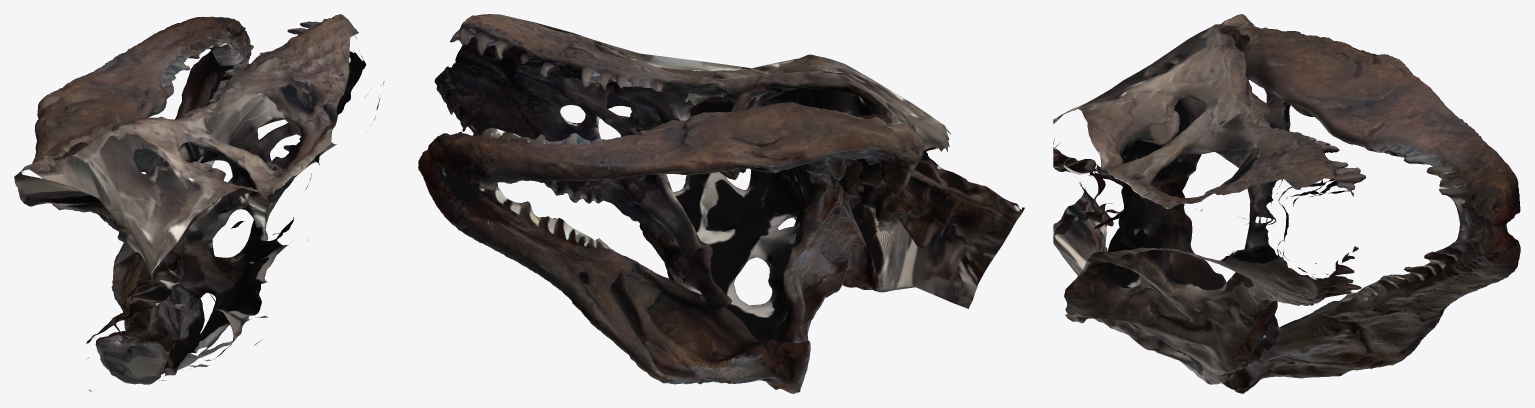
File: dinosaur.glb
3 renders of one model, left to right at view 1: azimuth 30°, elevation 25°; view 2: azimuth 150°, elevation 25°; view 3: azimuth 270°, elevation 25°, orthographic. The views are drawn at different scales.
Visible parts, largest first — view 1: mesh; view 2: mesh; view 3: mesh.
Boxes of the visible parts, x1=… form: mesh: x1=14, y1=14, x2=384, y2=391; mesh: x1=418, y1=14, x2=1024, y2=393; mesh: x1=1053, y1=14, x2=1520, y2=393.
Bounding box in the file's own units: 1.55 × 1.09 × 1.29.
Materials: 1 (1 with a texture image).
